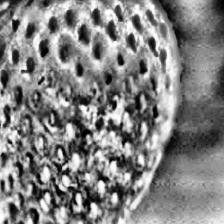Powdery Mildew Fruit: (0, 82, 155, 224)
